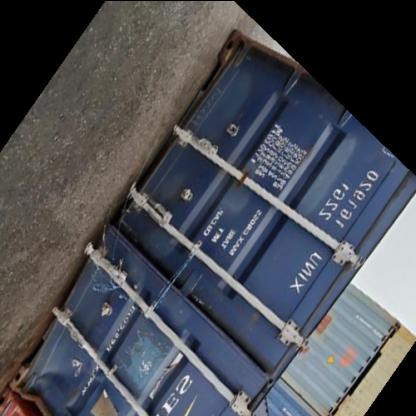Damage: (204, 64, 266, 148), (122, 340, 196, 398), (16, 360, 94, 413), (89, 251, 130, 295)
